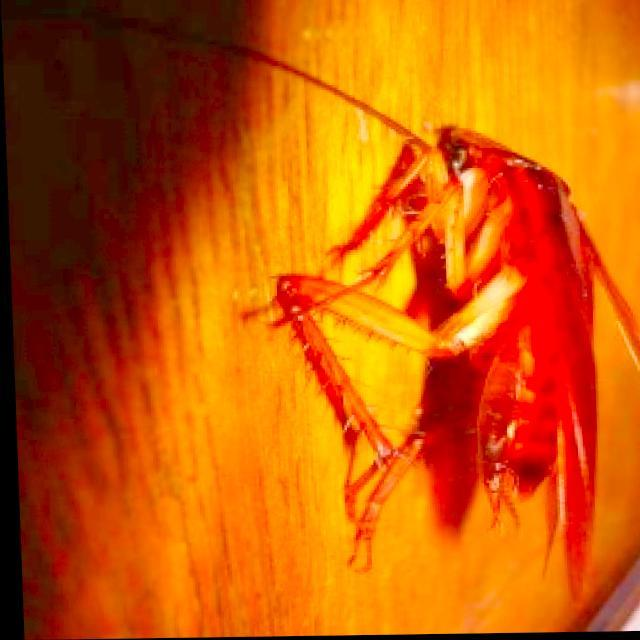cockroach: (408, 86, 606, 566)
